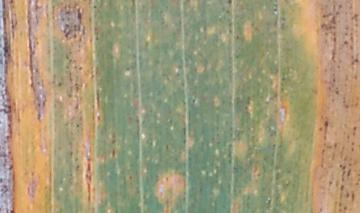tarspot: (75, 6, 83, 25), (233, 33, 242, 41), (190, 96, 198, 105), (225, 1, 234, 8), (91, 4, 99, 10)
